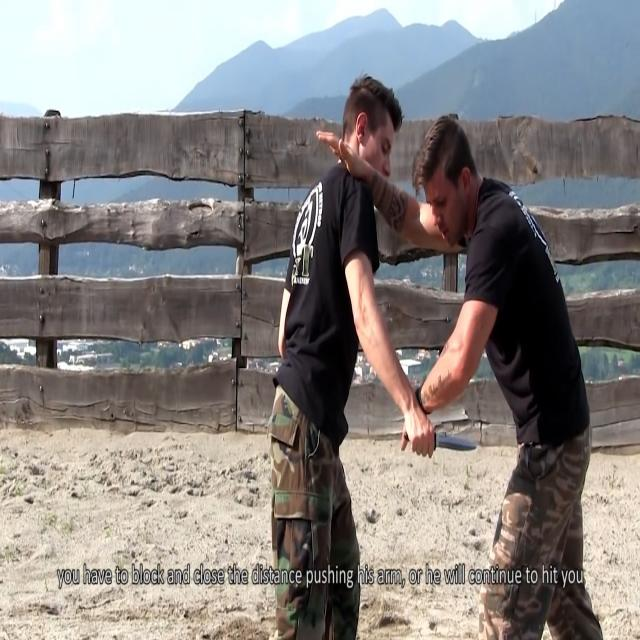knife: (437, 428, 483, 464)
